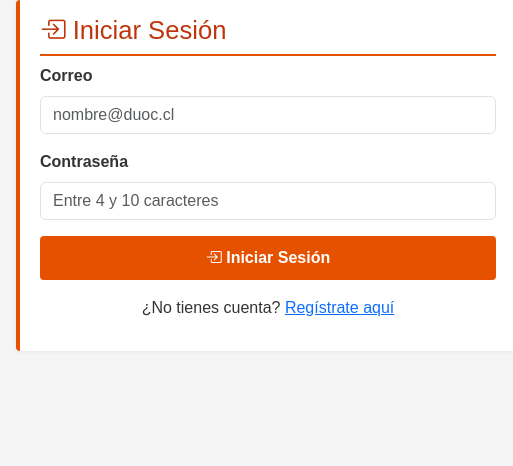
Test: Componente Login › con credenciales incorrectas muestra un mensaje y no crea sesión
In the field labelled "Correo": (268, 115) x1=40 y1=96 x2=496 y2=134, type "admin@duoc.cl"
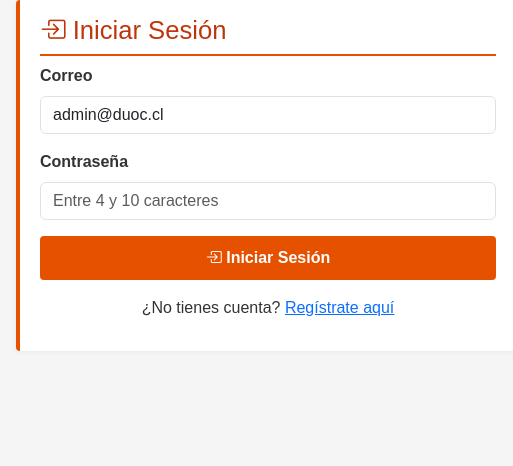
In the password field labelled "Contraseña": (268, 201) x1=40 y1=182 x2=496 y2=220, type "incorrecta"
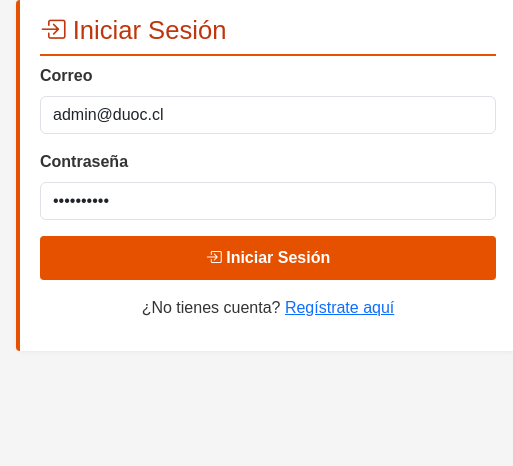
Click the button "Iniciar Sesión": click(268, 258) x1=40 y1=236 x2=496 y2=280
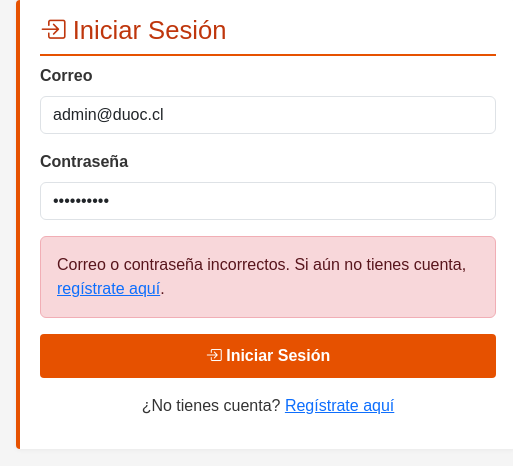
Expected: the message shows "incorrectos", x1=57 y1=256 x2=290 y2=273
